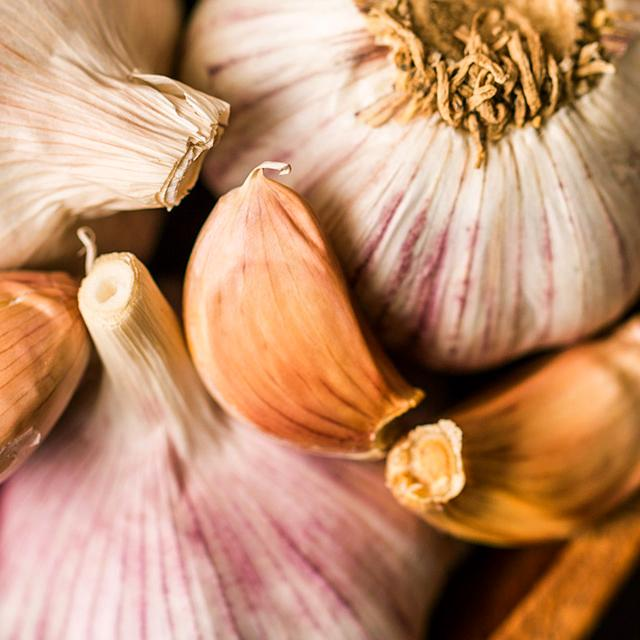garlic: (360, 0, 640, 342), (0, 438, 381, 640), (190, 170, 379, 454), (399, 328, 640, 532), (0, 0, 181, 250)
